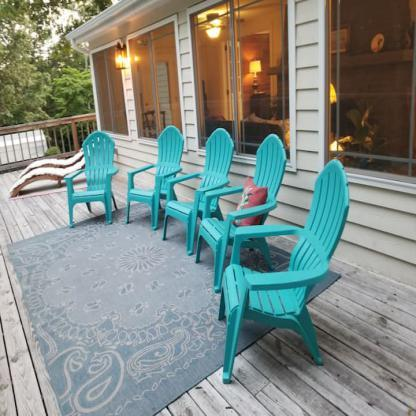chair: (219, 159, 352, 383), (199, 130, 287, 281), (162, 125, 230, 249), (62, 112, 121, 225), (128, 122, 186, 224), (9, 149, 91, 202), (142, 113, 166, 141)
clock: (362, 22, 396, 61)
light: (195, 0, 231, 48), (102, 42, 131, 76), (250, 57, 260, 93)
